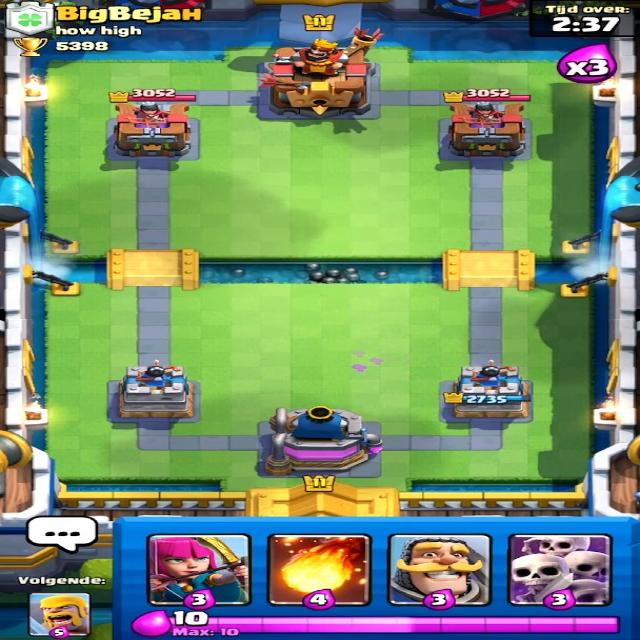Fireball_Card: (265, 537, 376, 606)
